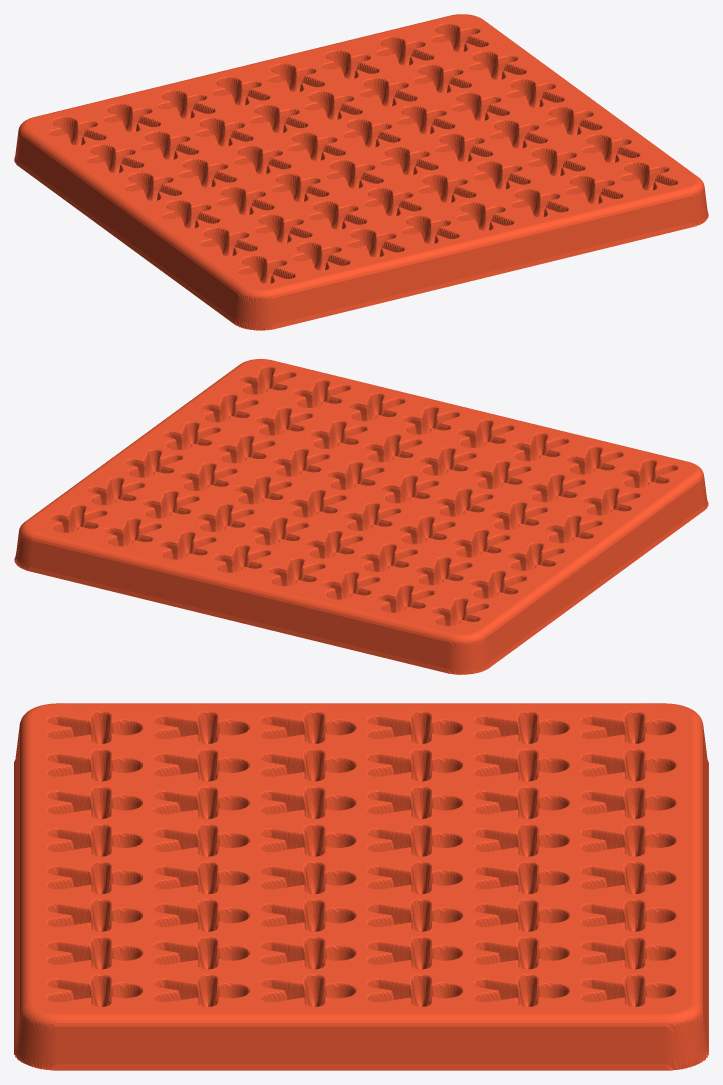
File: mold.glb
3 views of the same model, one above another, from view 1: azimuth 30°, elevation 25°; view 2: azimuth 150°, elevation 25°; view 3: azimuth 270°, elevation 25° (orthographic). The views are drawn at different scales.
Parts seen in each view (by area): view 1: geometry_0; view 2: geometry_0; view 3: geometry_0.
Part boxes in pixels (left/top/right/bottom): geometry_0: left=14, top=14, right=708, bottom=330; geometry_0: left=14, top=359, right=708, bottom=674; geometry_0: left=14, top=703, right=708, bottom=1070.
Bounding box in the file's own units: 0.1591 × 0.0114 × 0.1443.
